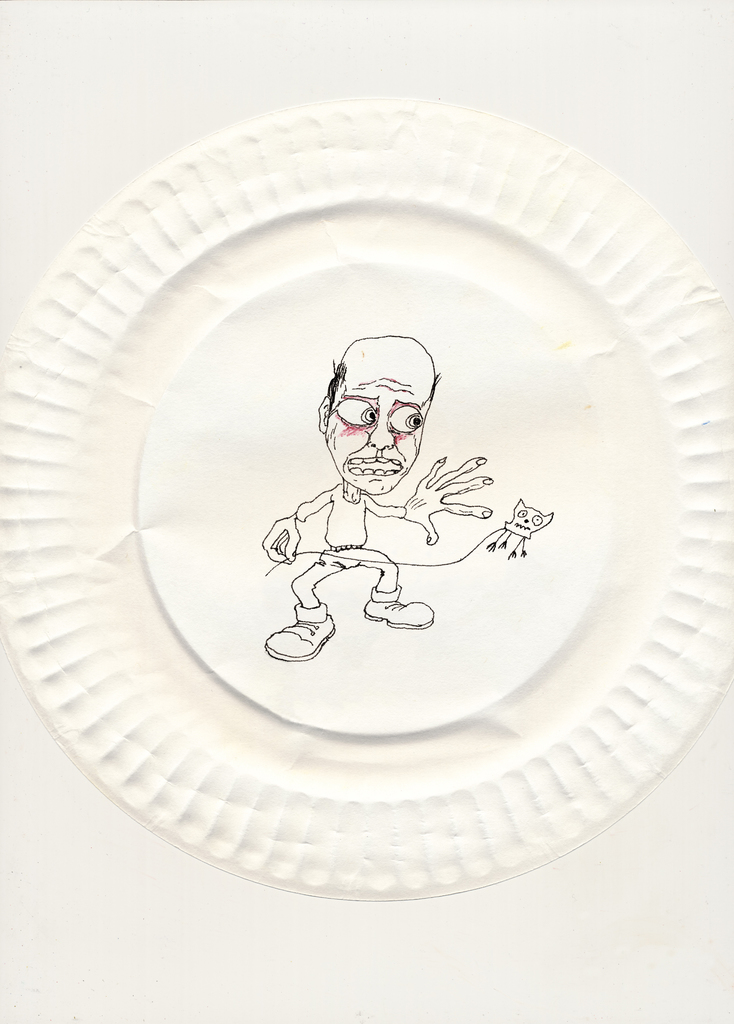plate: (0, 98, 733, 902)
